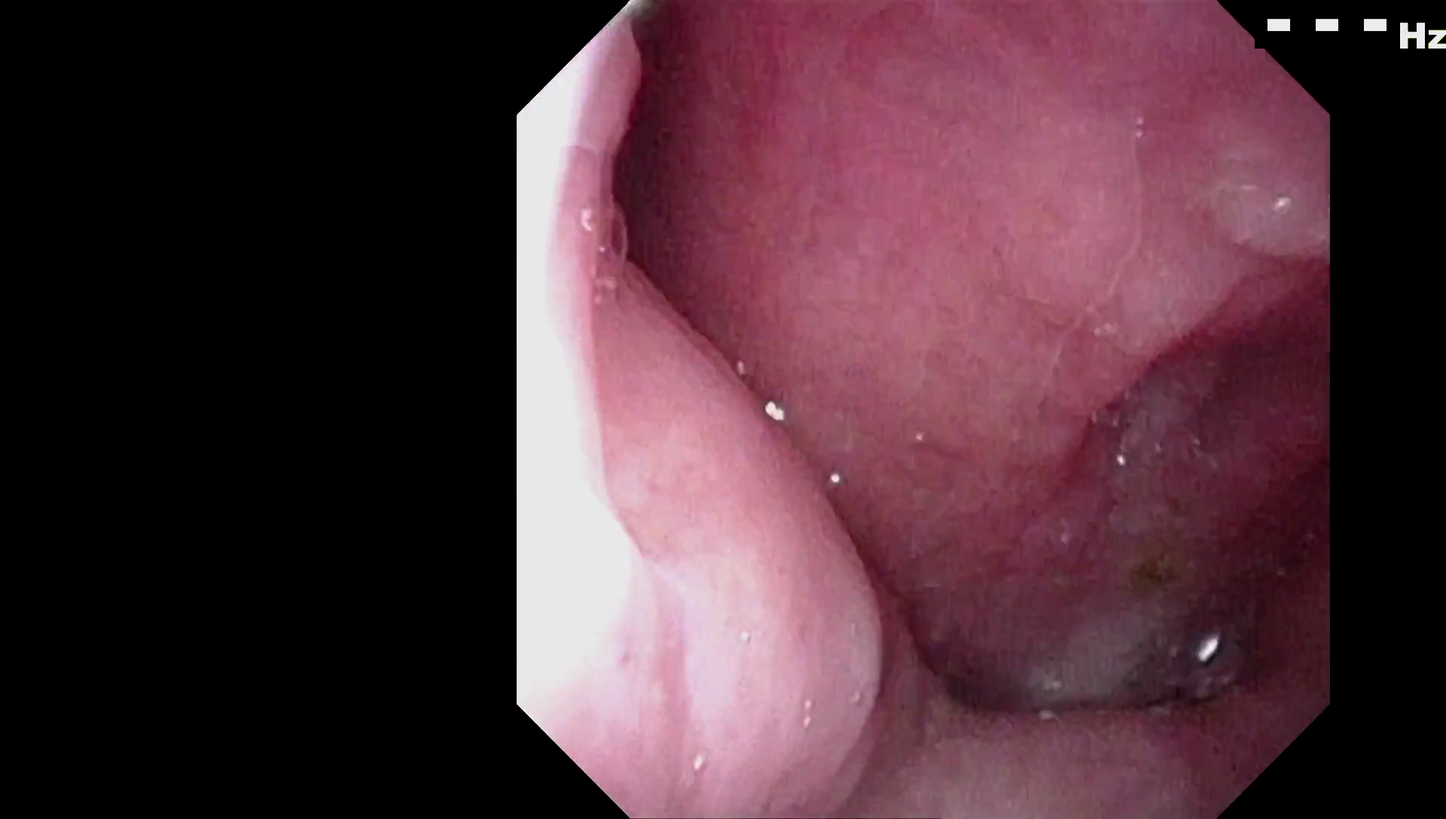close_wall: (518, 120, 764, 781)
next: (900, 595, 1275, 733), (617, 19, 713, 327)
